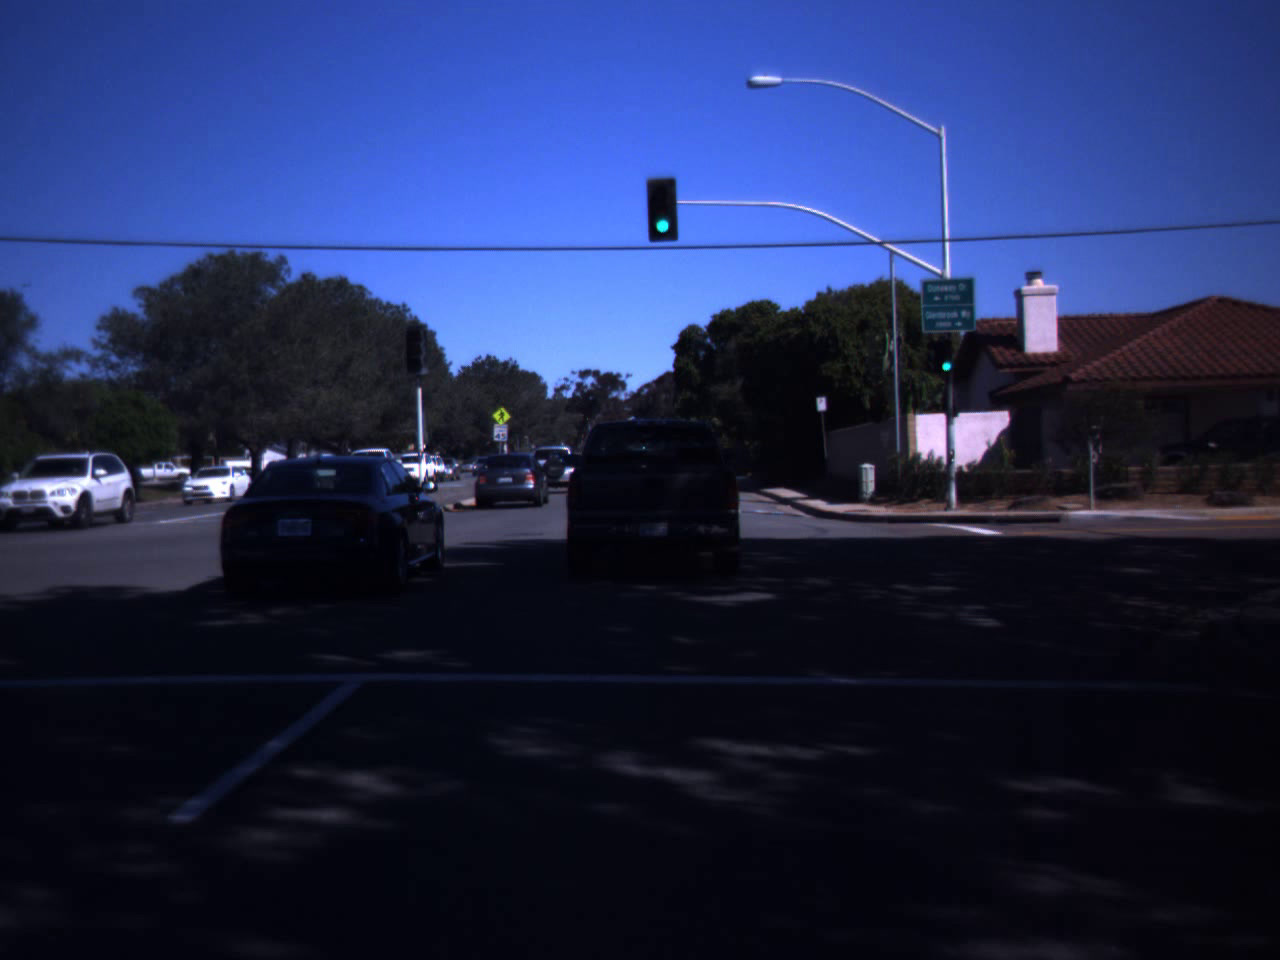go: (648, 181, 678, 236), (940, 343, 958, 373)
